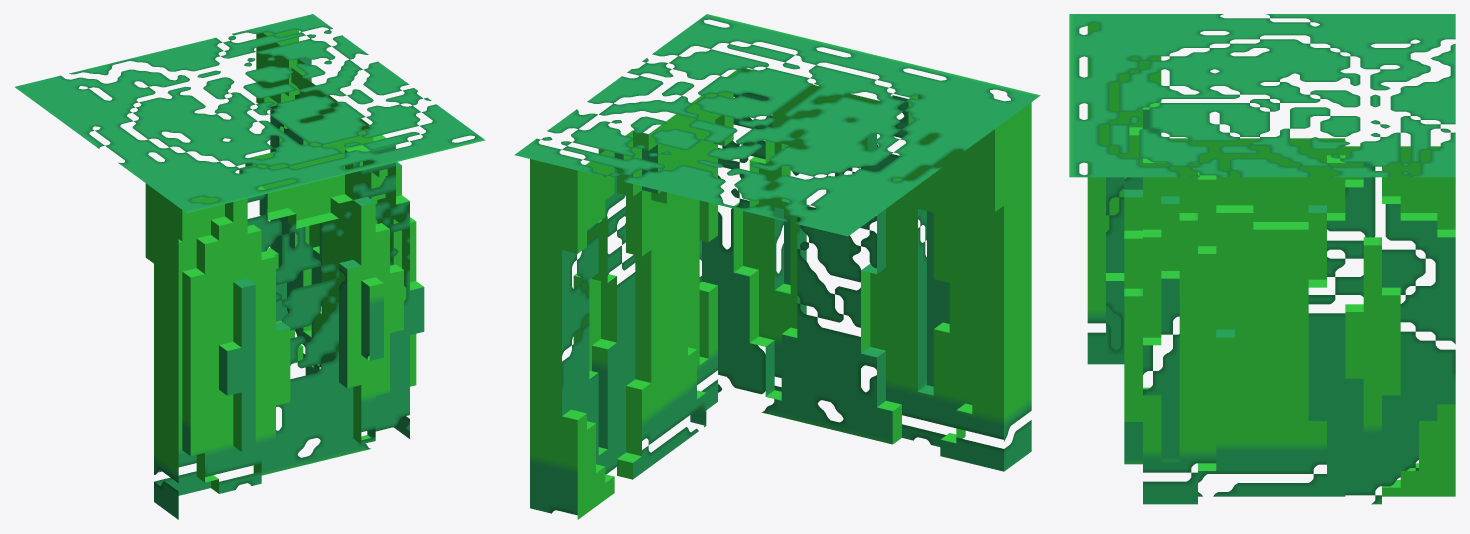
File: Inner_corner.obj
The picture shows the model from 3 angles, left to right: view 1: azimuth 30°, elevation 25°; view 2: azimuth 150°, elevation 25°; view 3: azimuth 270°, elevation 25°; orthographic projection. The views are drawn at different scales.
Visible parts, largest first — view 1: Cube.422; view 2: Cube.422; view 3: Cube.422.
Boxes of the visible parts, x1,y1,x2,y2 form: Cube.422: (15, 14, 485, 519); Cube.422: (514, 14, 1040, 519); Cube.422: (1069, 14, 1455, 504).
Size of the model in its own units: 2.1 by 2.1 by 2.1.
